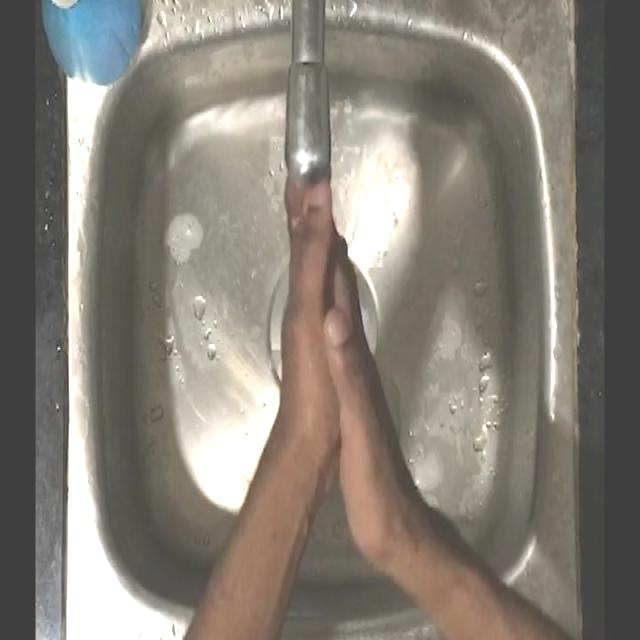step_1: (257, 122, 386, 475)
